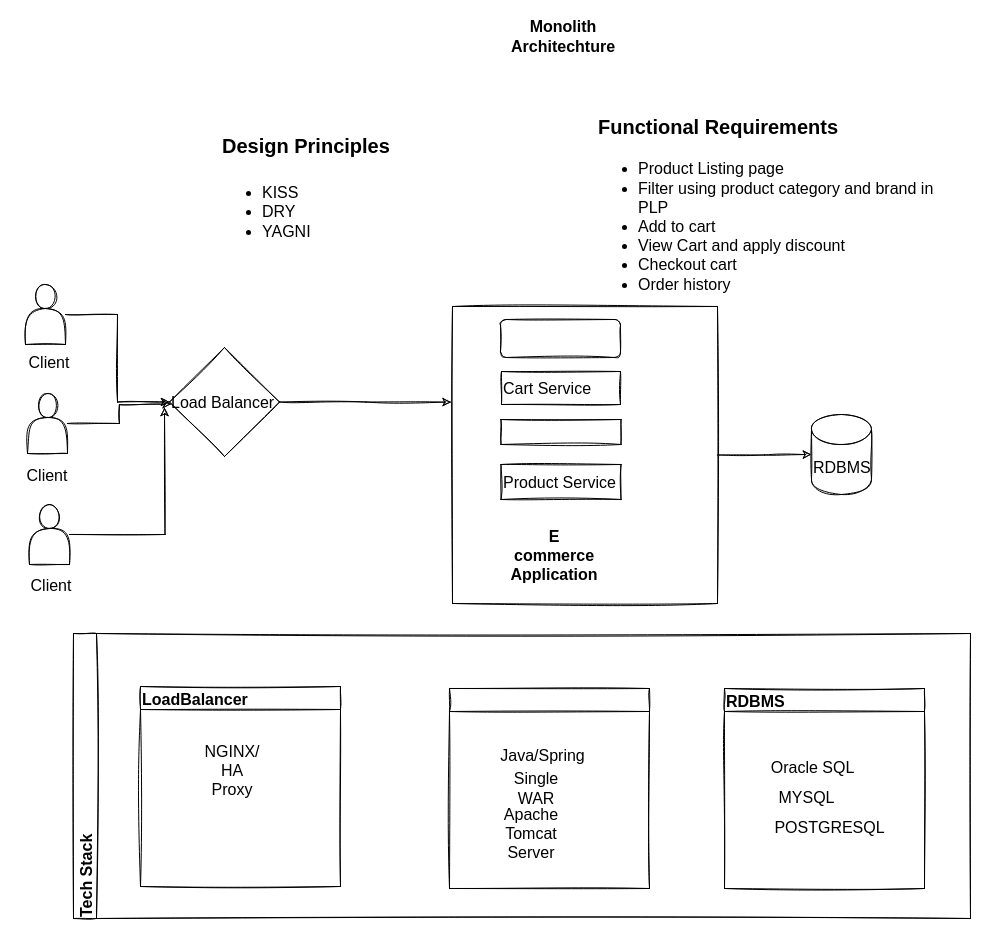
Some shapes in this 988 by 936 pixel diagram are drawn without their labels. The shapes that lost their labels are listed below. From the top down, each one's box as (x1, y1, x2, y2) in pixels, then its label:
(500, 318, 620, 358): Shop UI
(500, 418, 621, 444): Order Service
(448, 688, 650, 888): Application
